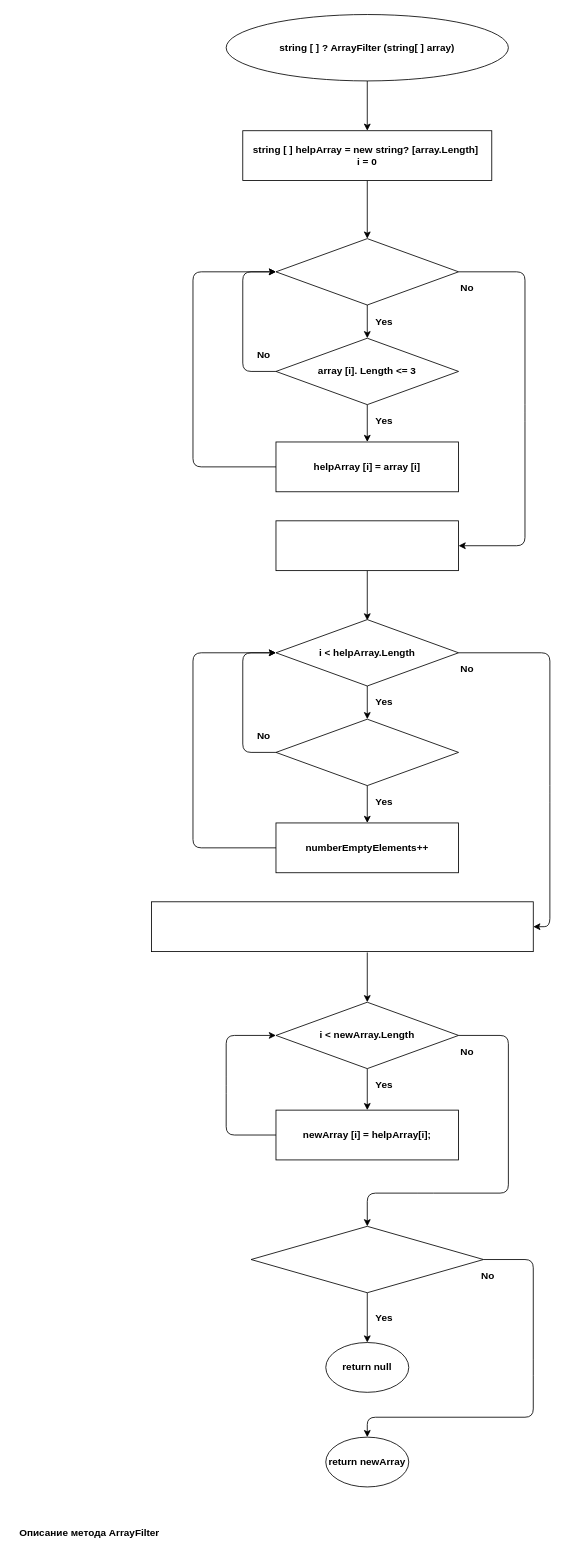
The diagram is 571 pixels wide and 1556 high, and some of its shapes have lost their labels. The centre of each missing label's shape, as x and y in pixels:
"helpArray[I] == null" goes at pixel 367 752.
"i < array.Length" goes at pixel 367 271.
"numberEmptyElements = 0 i = 0" goes at pixel 367 545.
"numberEmptyElements == helpArray.Length" goes at pixel 366 1259.
"string[ ] newArray = new string[helpArray.Length - numberEmptyElements] i = 0" goes at pixel 342 926.
